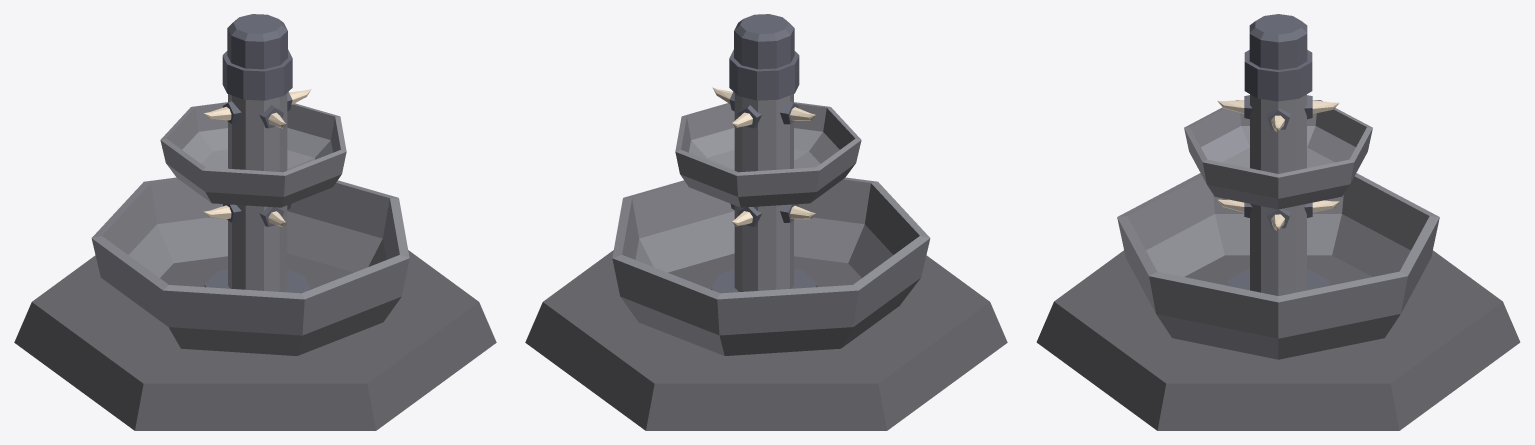
The model's file is fontan_1.fbx.
3 views of the same model, side by side, from view 1: azimuth 30°, elevation 25°; view 2: azimuth 150°, elevation 25°; view 3: azimuth 270°, elevation 25° (orthographic).
Parts seen in each view (by area): view 1: fontain_1; view 2: fontain_1; view 3: fontain_1.
Boxes of the visible parts, x1,y1,x2,y2 form: fontain_1: (14, 14, 496, 430); fontain_1: (525, 14, 1007, 430); fontain_1: (1036, 14, 1520, 430).
Bounding box in the file's own units: 363 × 305 × 420.
